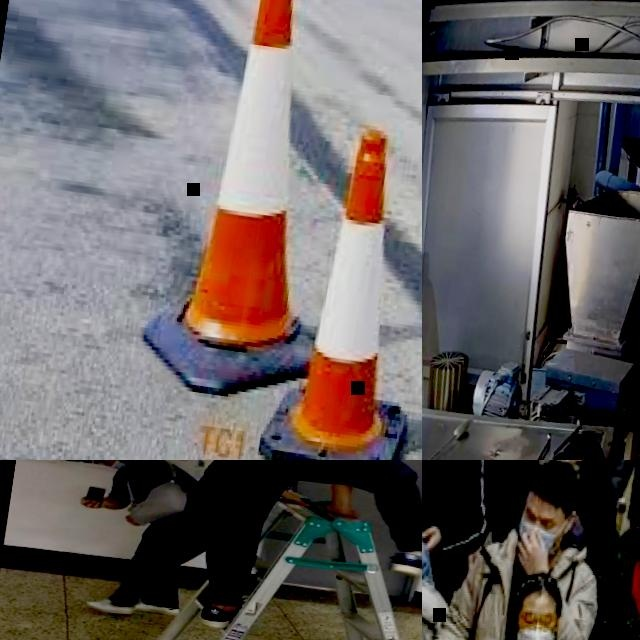Mask: (513, 520, 563, 560), (514, 625, 557, 640), (538, 460, 583, 470), (109, 460, 131, 472)
NO-Hardhat: (524, 460, 586, 512), (515, 567, 567, 611), (604, 612, 640, 640)
NO-Safety Vest: (422, 460, 477, 572), (124, 460, 201, 533), (567, 461, 610, 555), (596, 563, 640, 640)
Person: (151, 460, 422, 640), (427, 460, 617, 640), (47, 460, 223, 625), (483, 460, 634, 596), (423, 558, 594, 640), (422, 460, 510, 600), (573, 288, 640, 460), (583, 480, 640, 640), (500, 460, 640, 503)
Safety Cone: (139, 0, 376, 409), (258, 120, 422, 460)
